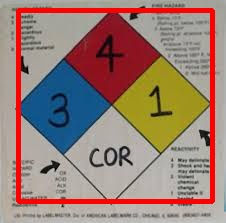nfpa: (18, 10, 212, 201)
